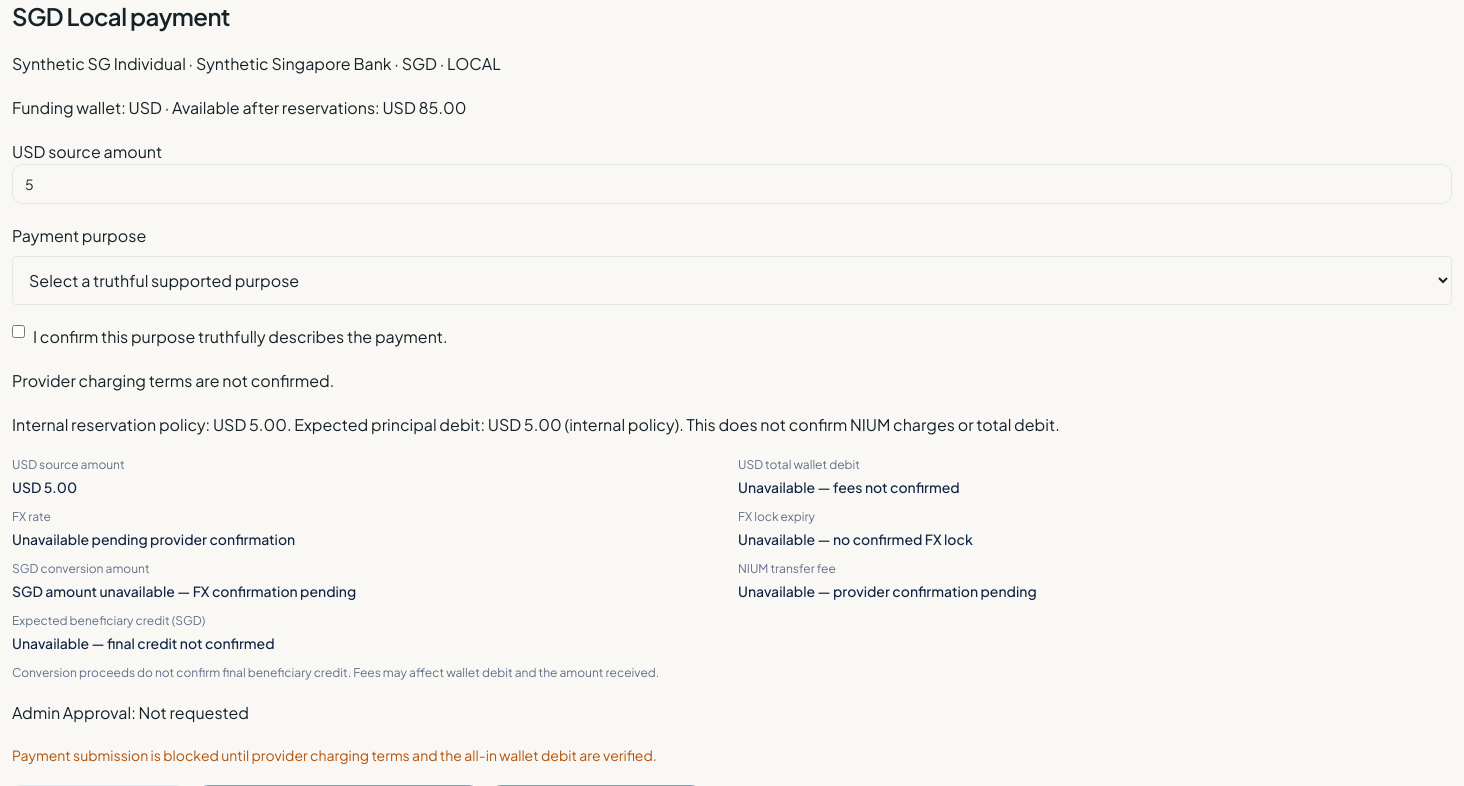
Test: explicit controlled SGD preparation › never locks, creates or submits during rendering and requires a truthful supported purpose
Select "Synthetic purpose, not Production verification" in the dropdown labelled "Payment purpose". click: (732,280)
box: [12,256,1452,305]
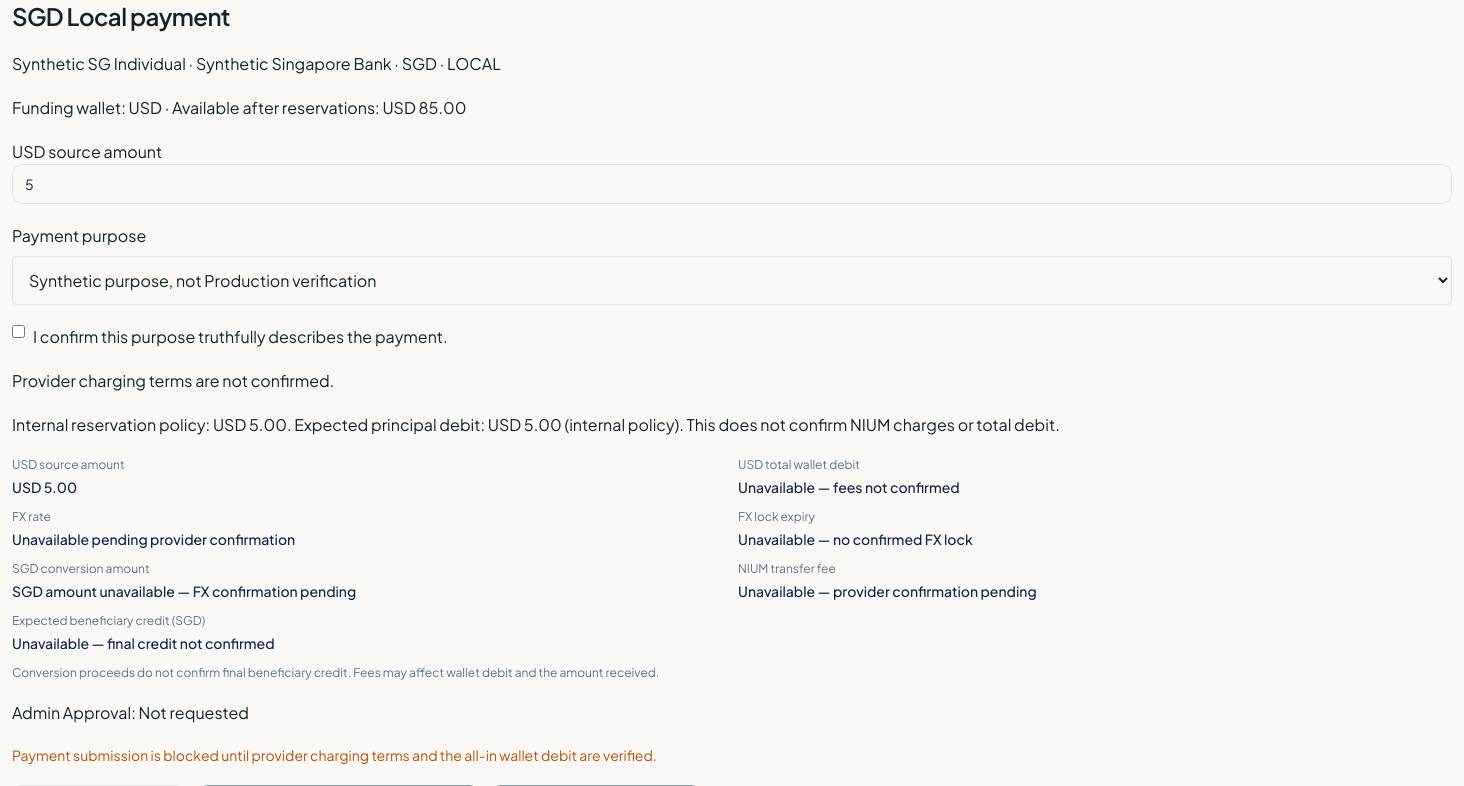
Click the checkbox. click: (18,332)
box: [12,325,25,338]
(page scrolled)
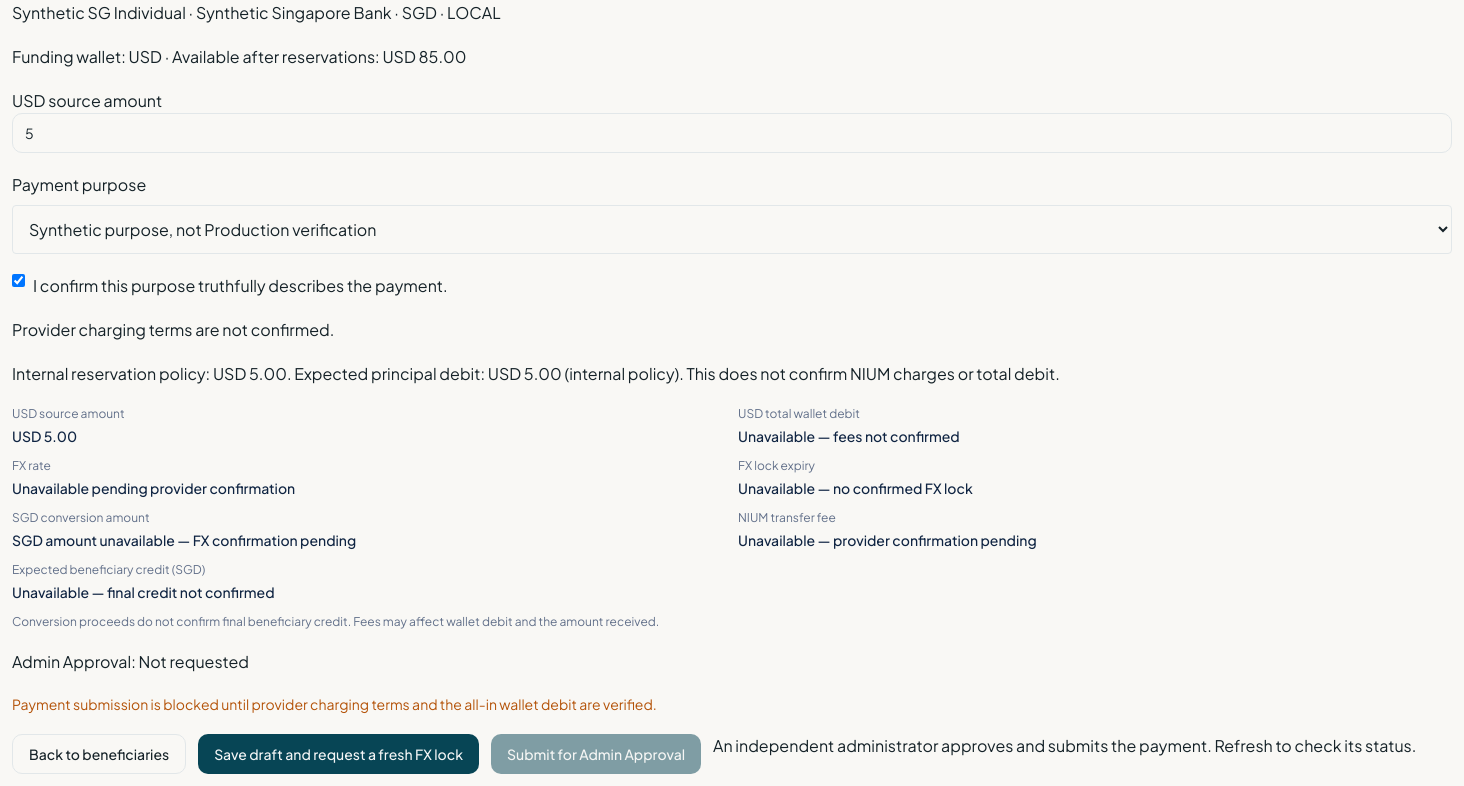
Result: the button "Save draft and request a fresh FX lock" is enabled at [198,734,479,774]
